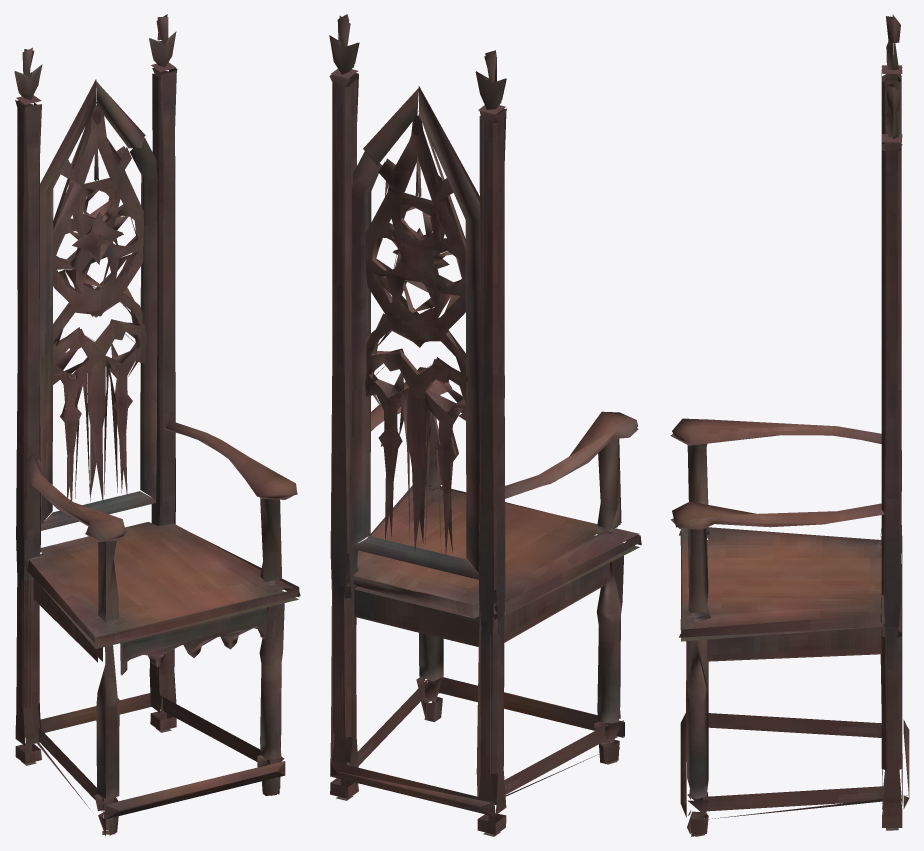
File: WoodenChair_01.glb
The picture shows the model from 3 angles, left to right: view 1: azimuth 30°, elevation 25°; view 2: azimuth 150°, elevation 25°; view 3: azimuth 270°, elevation 25°; orthographic projection. The views are drawn at different scales.
Parts seen in each view (by area): view 1: WoodenChair_01; view 2: WoodenChair_01; view 3: WoodenChair_01.
Part boxes in pixels (x1=…): WoodenChair_01: x1=14, y1=14, x2=300, y2=836; WoodenChair_01: x1=329, y1=14, x2=641, y2=836; WoodenChair_01: x1=670, y1=14, x2=909, y2=836.
Size of the model in its own units: 0.682 by 2.26 by 0.658.
1 material, 1 textured.
